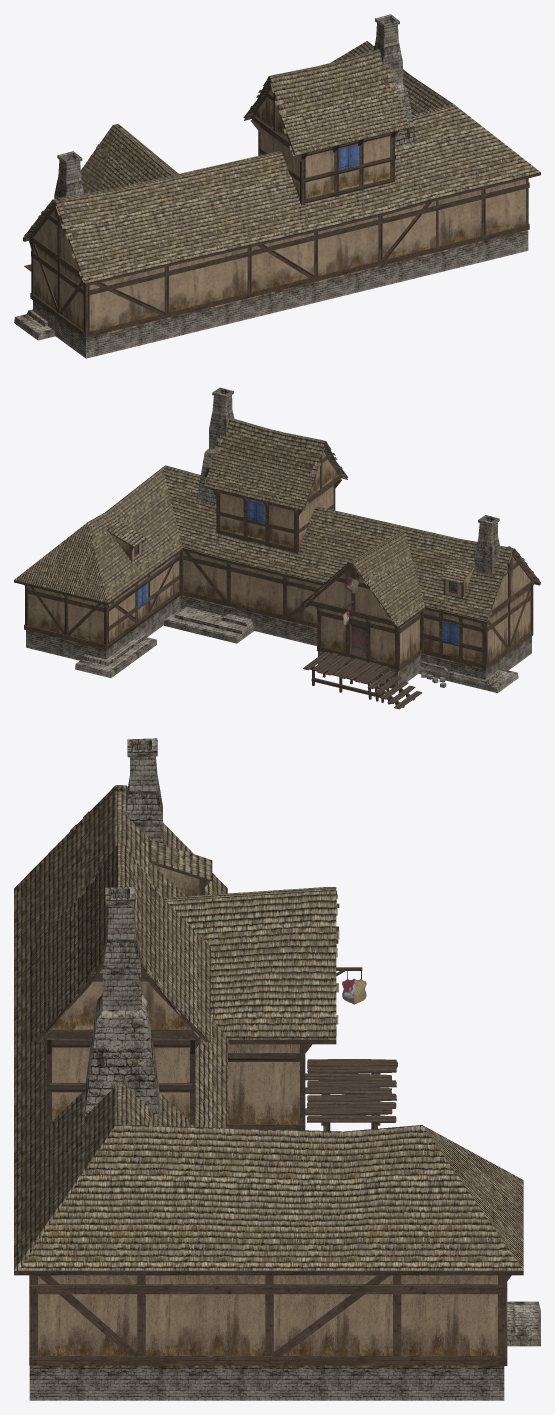
The model's file is f1_house02.dae.
3 renders of one model, top to bottom at view 1: azimuth 30°, elevation 25°; view 2: azimuth 150°, elevation 25°; view 3: azimuth 270°, elevation 25°, orthographic. The views are drawn at different scales.
Visible parts, largest first — view 1: f1_house02_Layer1; view 2: f1_house02_Layer1; view 3: f1_house02_Layer1.
Part boxes in pixels (x1,y1,x2,y2): f1_house02_Layer1: (14, 14, 540, 358); f1_house02_Layer1: (14, 387, 540, 709); f1_house02_Layer1: (14, 738, 540, 1400).
Bounding box in the file's own units: 25.35 × 12.53 × 14.43.
